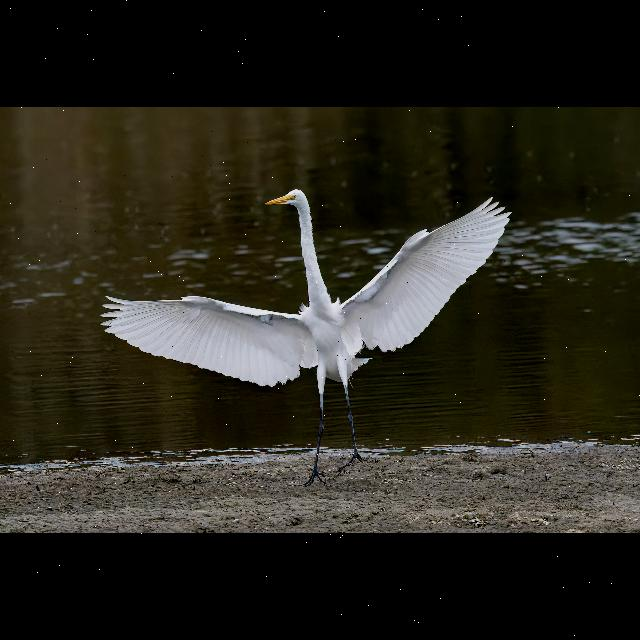egret: (105, 188, 509, 480)
